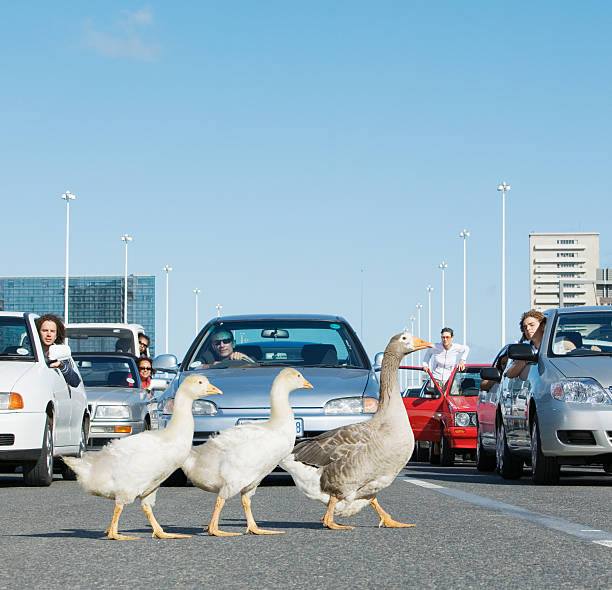goose: (286, 329, 442, 530), (63, 371, 226, 541), (186, 363, 313, 540)
